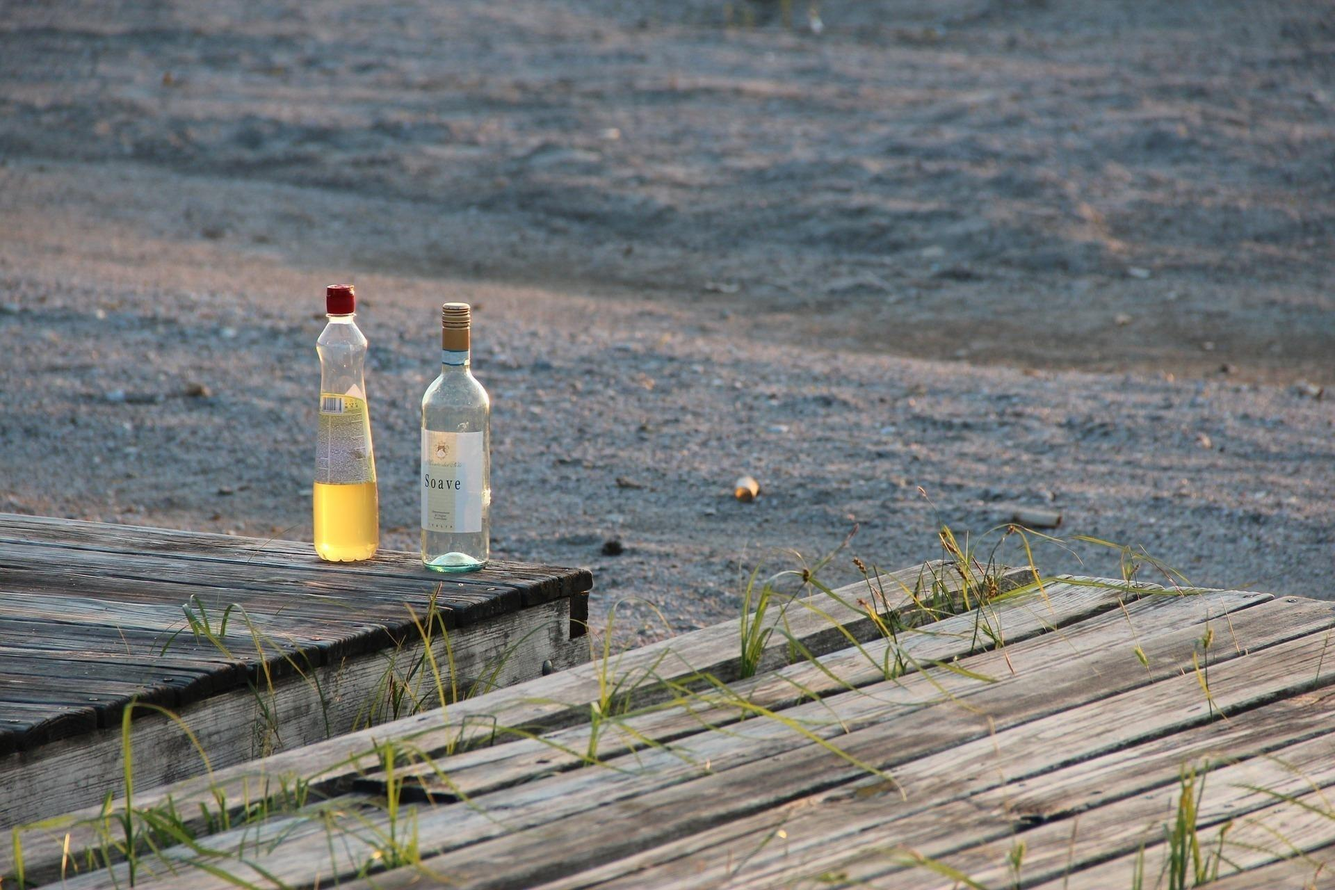bottle-glass: (416, 297, 495, 578)
bottle-plastic: (307, 275, 387, 569)
